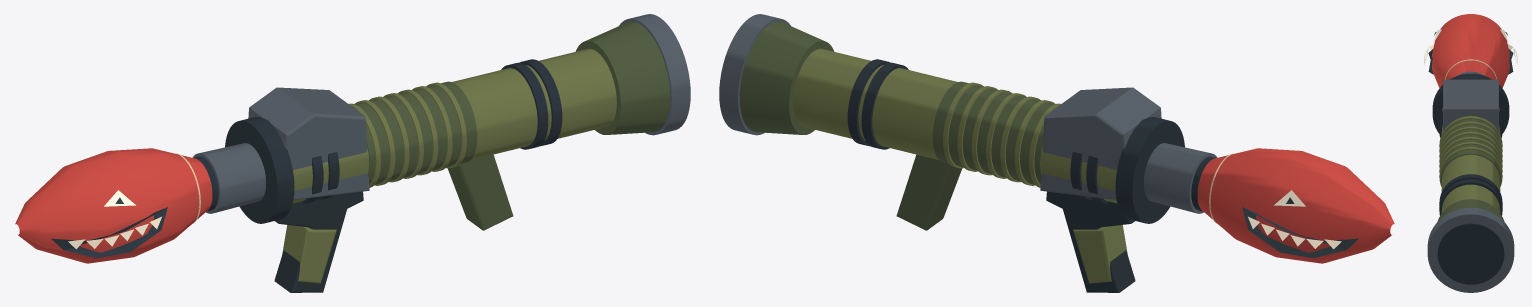
3 views of the same model, side by side, from view 1: azimuth 30°, elevation 25°; view 2: azimuth 150°, elevation 25°; view 3: azimuth 270°, elevation 25° (orthographic). The views are drawn at different scales.
Parts seen in each view (by area): view 1: LauncherTube, PaintedRound, LauncherRound; view 2: LauncherTube, PaintedRound, LauncherRound; view 3: LauncherTube, PaintedRound, LauncherRound.
Boxes of the visible parts, <box> form: LauncherTube: <box>192,14,690,292</box>; PaintedRound: <box>15,148,218,263</box>; LauncherRound: <box>51,161,167,258</box>; LauncherTube: <box>719,14,1217,292</box>; PaintedRound: <box>1191,148,1394,263</box>; LauncherRound: <box>1242,161,1358,258</box>; LauncherTube: <box>1427,71,1514,292</box>; PaintedRound: <box>1431,14,1510,87</box>; LauncherRound: <box>1424,29,1517,74</box>.
Size of the model in its own units: 3.25 by 0.9168 by 0.5603.
